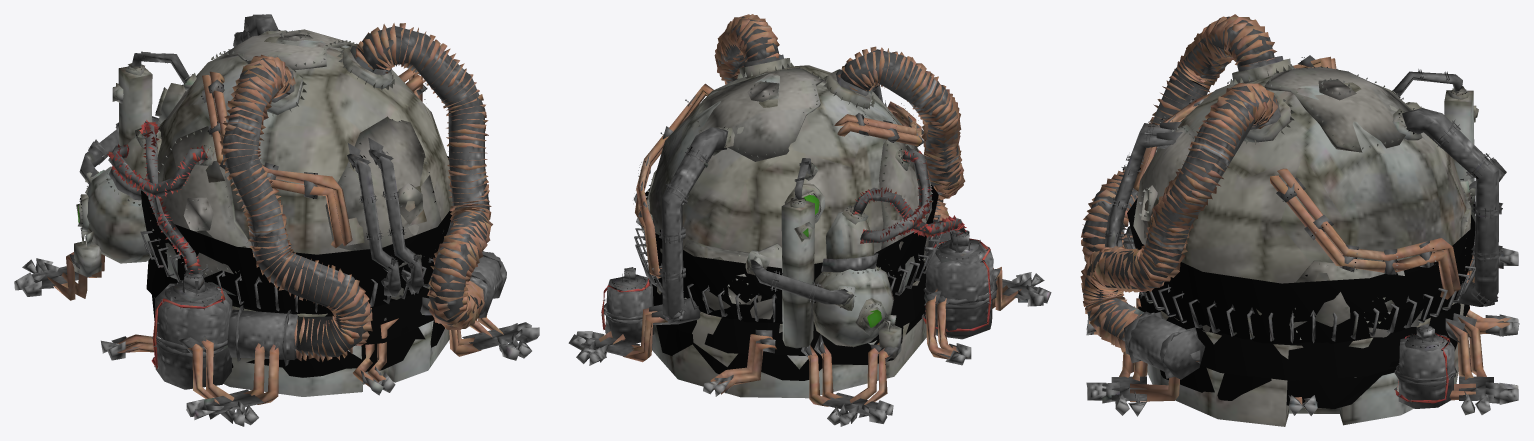
The model's file is nuclear-reactor.glb.
3 renders of one model, left to right at view 1: azimuth 30°, elevation 25°; view 2: azimuth 150°, elevation 25°; view 3: azimuth 270°, elevation 25°, orthographic. The views are drawn at different scales.
Parts seen in each view (by area): view 1: body; view 2: body; view 3: body.
Part boxes in pixels (box(x1,y1,x2,y2)): body: box(14, 14, 539, 426); body: box(568, 14, 1051, 426); body: box(1080, 14, 1519, 426).
Size of the model in its own units: 4.5 by 3.92 by 4.96.
Materials: 1 (1 with a texture image).
